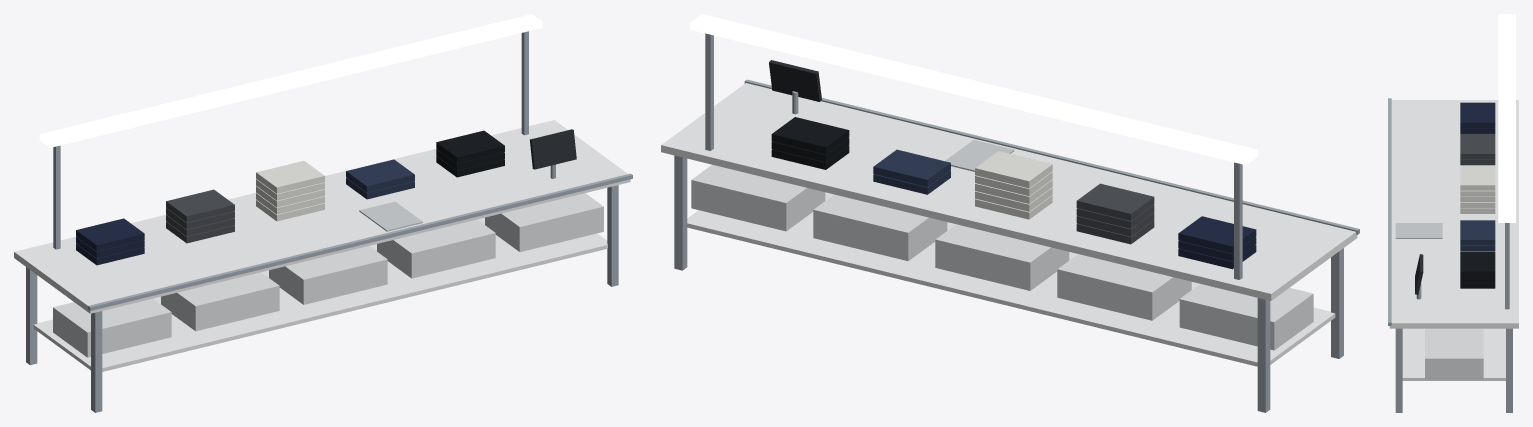
Rendered from kalite-kontrol-masasi.glb.
3 renders of one model, left to right at view 1: azimuth 30°, elevation 25°; view 2: azimuth 150°, elevation 25°; view 3: azimuth 270°, elevation 25°, orthographic. The views are drawn at different scales.
Parts seen in each view (by area): view 1: Asset; view 2: Asset; view 3: Asset.
Boxes of the visible parts, <box> form: Asset: <box>14,14,632,412</box>; Asset: <box>661,14,1359,412</box>; Asset: <box>1388,14,1518,412</box>.
Bounding box in the file's own units: 4.52 × 1.78 × 1.12.
